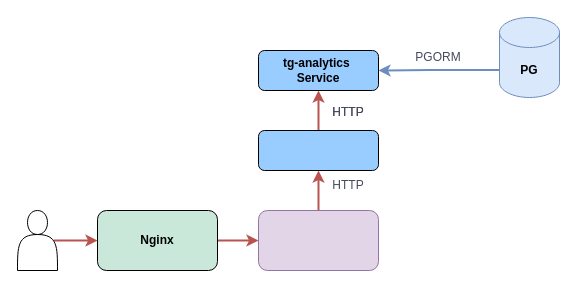
This 577x288 diagram has some shape labels left out. The shapes that lost their labels are listed below. From the top down, each one's centre as x and y in pixels, then its label:
At (x=318, y=150): "API-GW".
At (x=318, y=240): "Frontend".
